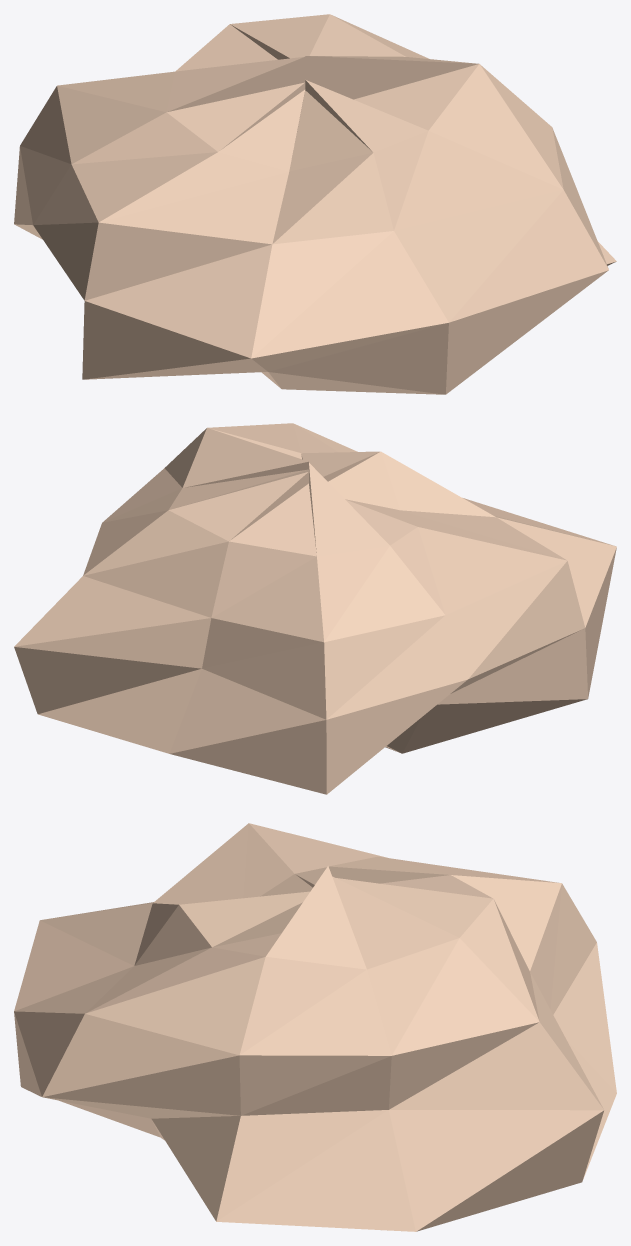
The model's file is rock_050.obj.
The picture shows the model from 3 angles, top to bottom: view 1: azimuth 30°, elevation 25°; view 2: azimuth 150°, elevation 25°; view 3: azimuth 270°, elevation 25°; orthographic projection. The views are drawn at different scales.
Bounding box in the file's own units: 1.19 × 0.6468 × 1.14.
